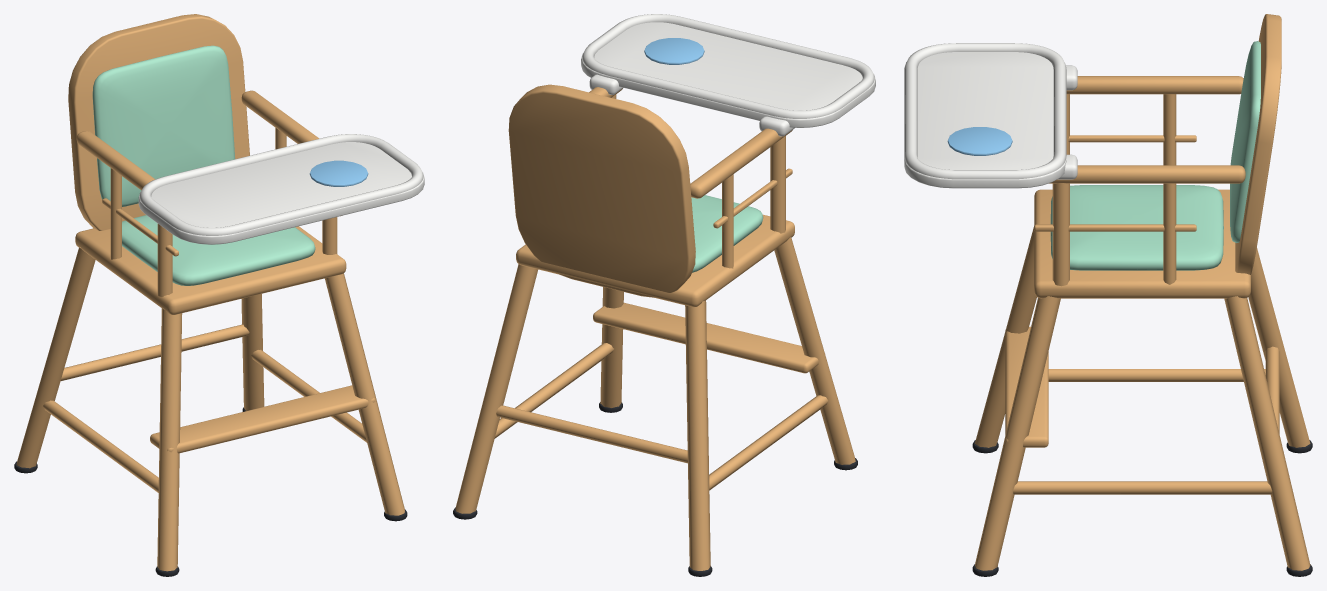
The model's file is cadeira_alta_bebe.glb.
3 renders of one model, left to right at view 1: azimuth 30°, elevation 25°; view 2: azimuth 150°, elevation 25°; view 3: azimuth 270°, elevation 25°, orthographic. The views are drawn at different scales.
Visible parts, largest first — view 1: cadeira_alta_bebe; view 2: cadeira_alta_bebe; view 3: cadeira_alta_bebe.
Part boxes in pixels (x1,y1,x2,y2): cadeira_alta_bebe: (14, 14, 424, 576); cadeira_alta_bebe: (453, 14, 875, 576); cadeira_alta_bebe: (904, 14, 1312, 576).
Bounding box in the file's own units: 0.588 × 0.9618 × 0.754.
1 material, 1 textured.
